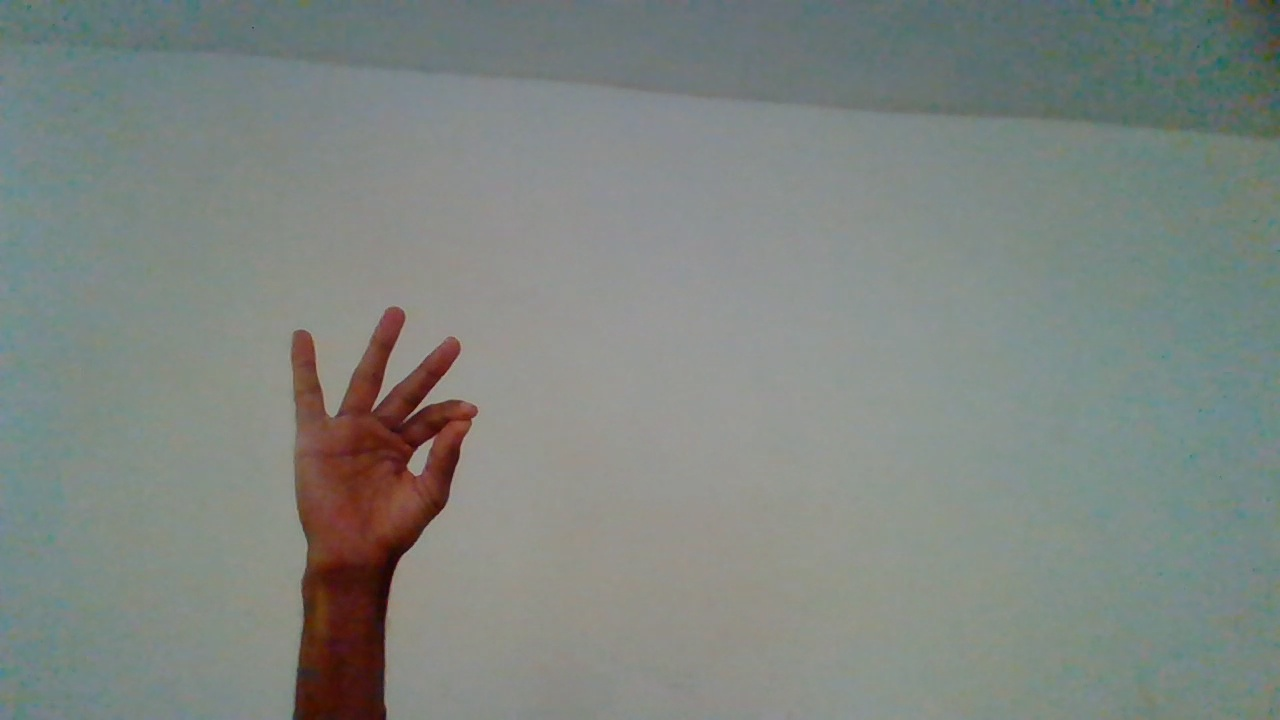le: (287, 302, 477, 697)
